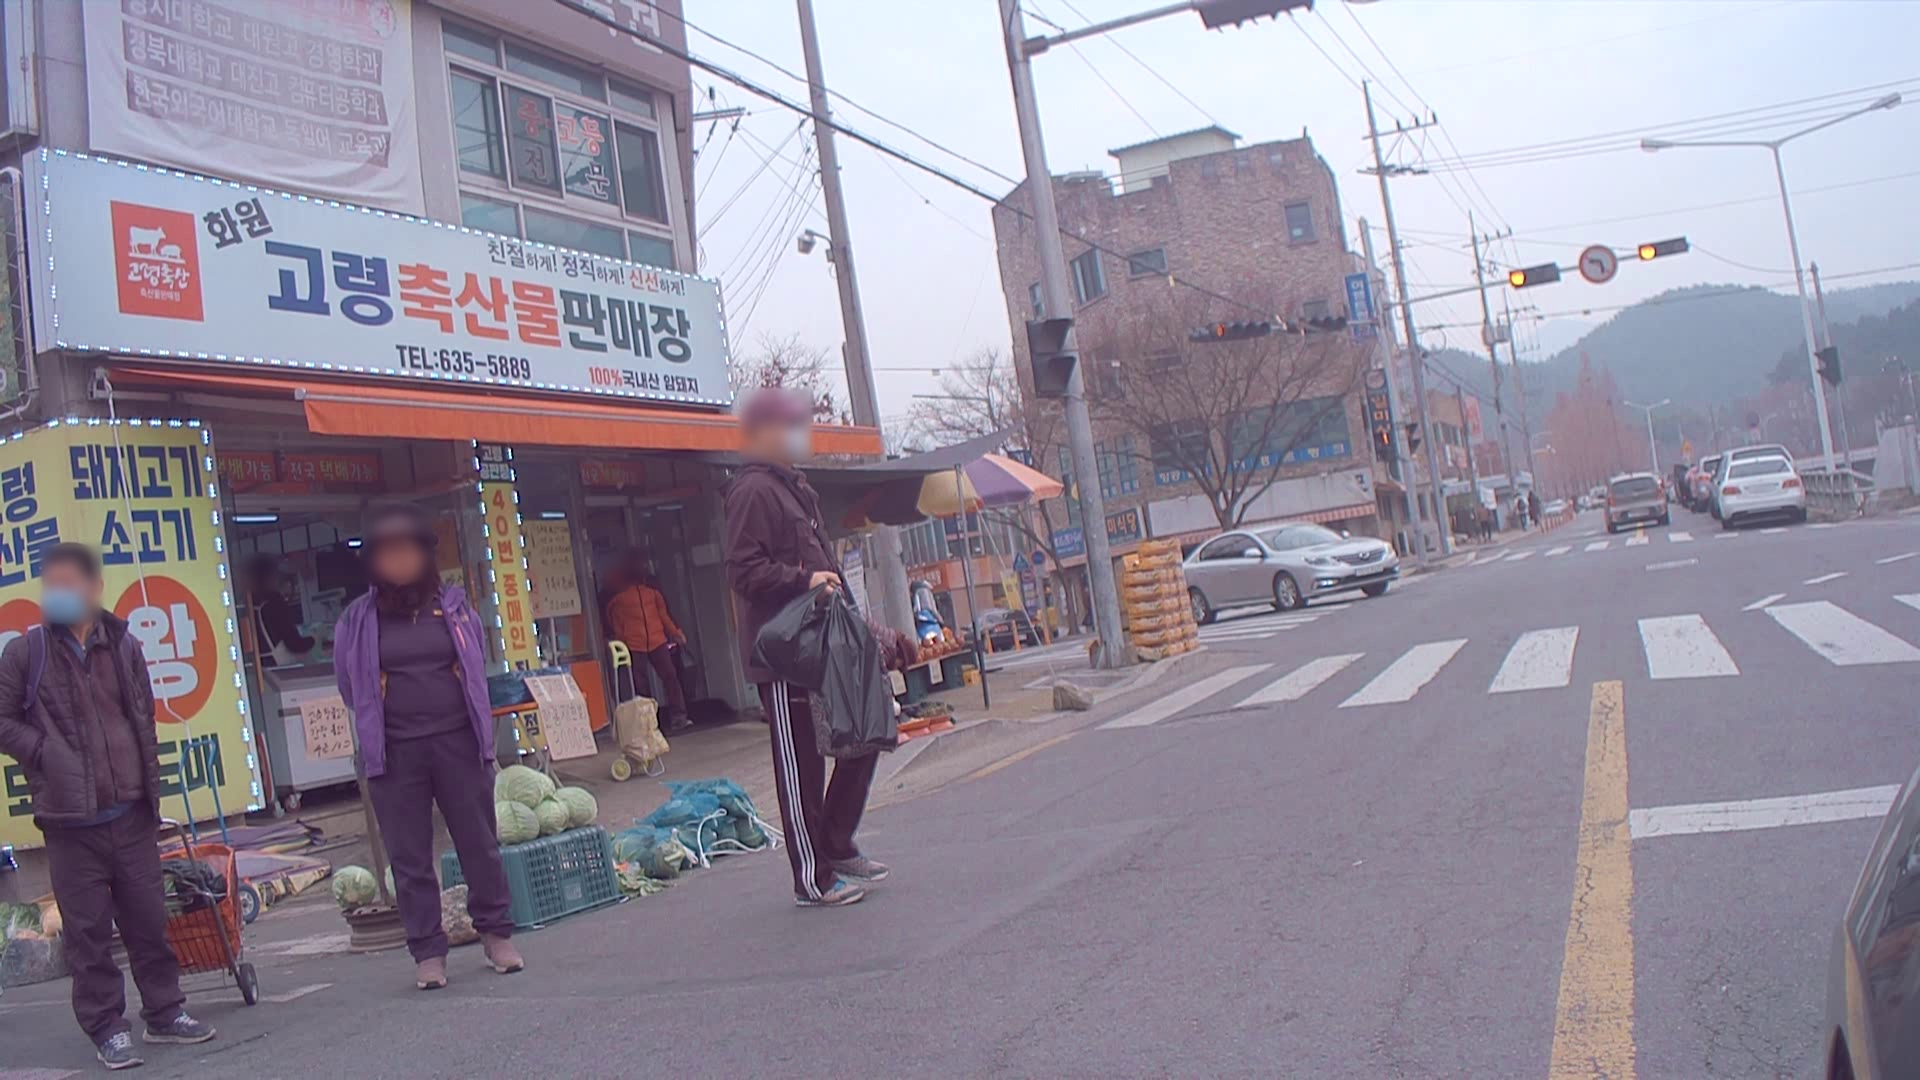trafficLight: (1193, 305, 1356, 345), (1638, 233, 1692, 270), (1505, 262, 1557, 285)
trafficLightBar: (1023, 313, 1083, 400)
trafficSignCircle: (1578, 244, 1619, 284)
